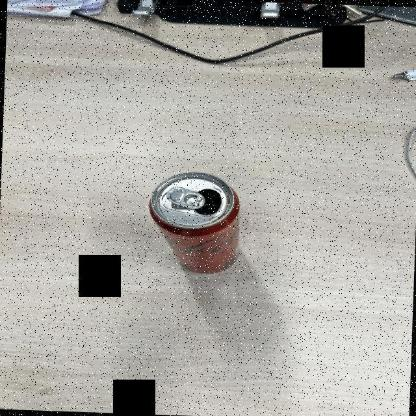Can: (148, 174, 240, 275)
